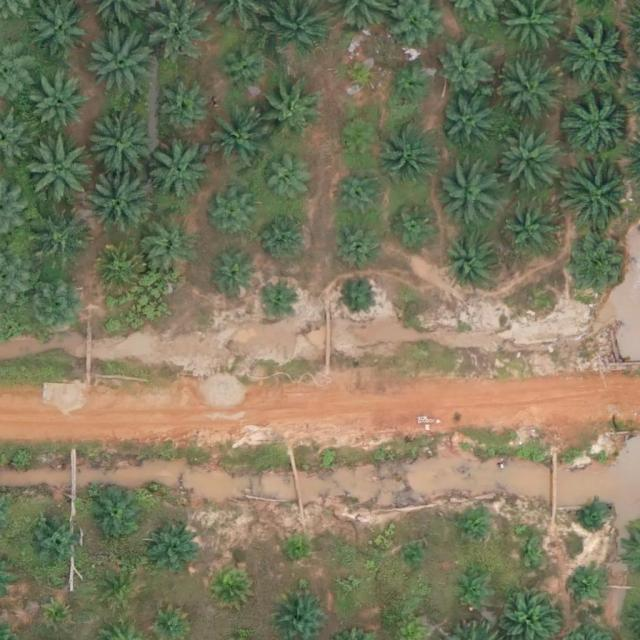Healthy: (562, 19, 632, 90), (564, 89, 635, 159), (86, 168, 157, 238), (81, 108, 152, 178), (83, 26, 153, 97), (24, 135, 94, 206), (564, 159, 634, 229), (565, 238, 628, 301), (495, 130, 558, 193), (204, 111, 267, 174), (382, 122, 445, 185), (498, 63, 560, 126), (440, 162, 502, 225), (258, 81, 320, 144), (148, 141, 210, 204), (28, 207, 90, 270), (27, 514, 82, 569), (445, 234, 500, 289), (438, 43, 493, 98), (329, 219, 384, 274), (91, 243, 146, 298), (218, 42, 273, 97), (143, 223, 198, 278), (34, 79, 89, 134), (28, 280, 83, 335), (90, 487, 144, 542), (507, 204, 561, 259), (440, 97, 494, 152), (335, 169, 389, 224), (158, 85, 212, 140)
Small: (150, 529, 197, 577), (337, 117, 384, 165), (262, 158, 309, 205), (263, 213, 310, 260), (392, 202, 439, 249), (387, 63, 434, 110), (212, 192, 259, 239), (211, 255, 258, 302), (341, 55, 380, 95), (256, 280, 295, 320), (339, 278, 378, 317), (572, 568, 603, 600), (576, 500, 607, 531), (516, 539, 547, 570), (458, 510, 489, 541), (455, 575, 486, 606), (401, 548, 425, 572), (285, 538, 308, 562), (340, 578, 356, 594)
Yellow: (102, 570, 141, 610), (212, 567, 252, 606), (44, 601, 67, 624)
